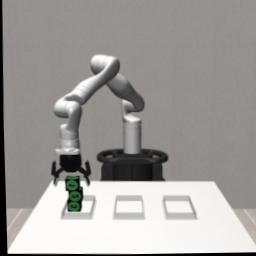cube1: (64, 176, 80, 190)
cube2: (67, 188, 82, 201)
cube3: (65, 201, 79, 212)
